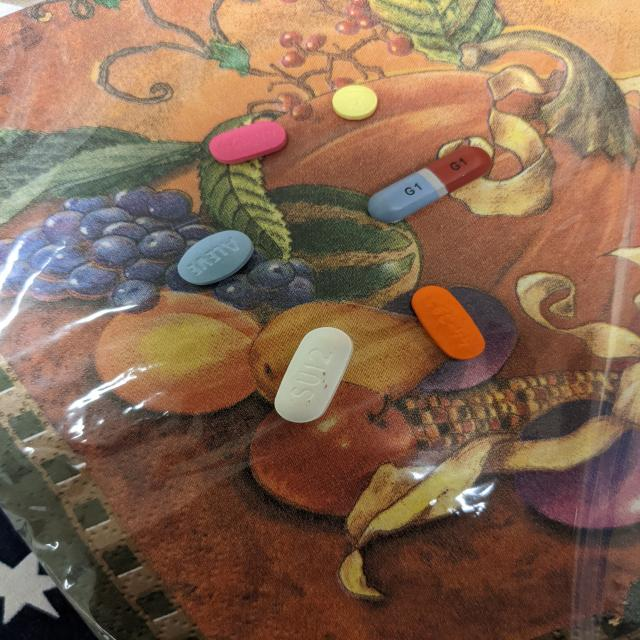non-organic waste: (364, 145, 494, 224), (272, 326, 354, 423), (409, 285, 487, 361), (174, 229, 256, 287), (207, 120, 289, 165), (331, 84, 379, 122)
